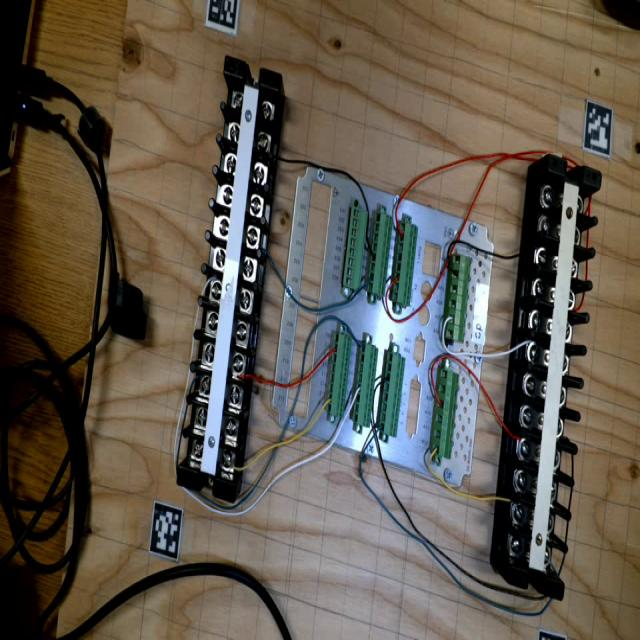Flathead_Block: (507, 154, 604, 601)
Phillips_Block: (175, 57, 284, 503)
Terminal_1: (430, 368, 460, 459), (445, 253, 471, 343)
Terminal_2: (378, 351, 406, 438), (352, 342, 379, 428), (366, 211, 393, 297), (326, 332, 352, 418), (392, 222, 418, 306)
